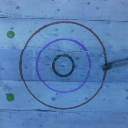Axe Tip: (103, 67, 112, 69)
